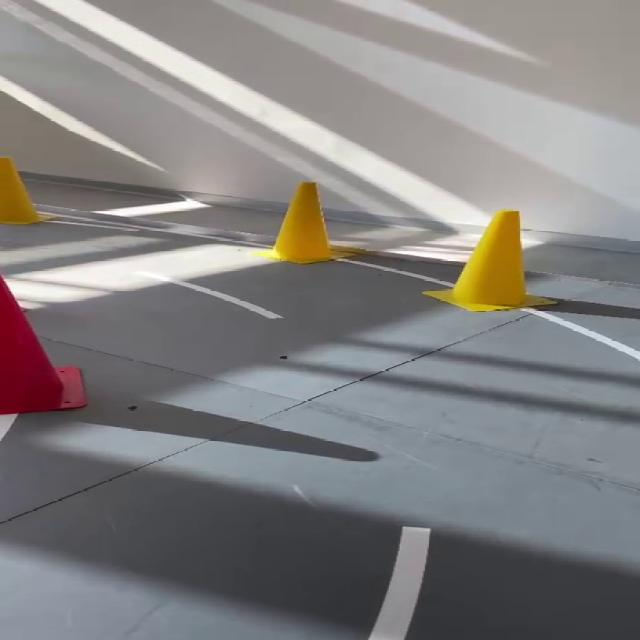Cone-red: (0, 275, 86, 415)
Cones-yellow: (425, 210, 553, 311), (257, 182, 357, 263), (0, 158, 44, 225)
